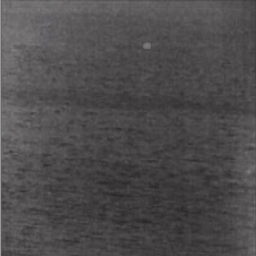Target: (143, 41, 153, 50)
